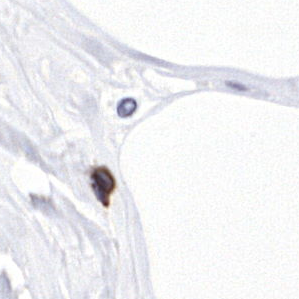Lymphocyte: (88, 161, 118, 205)
